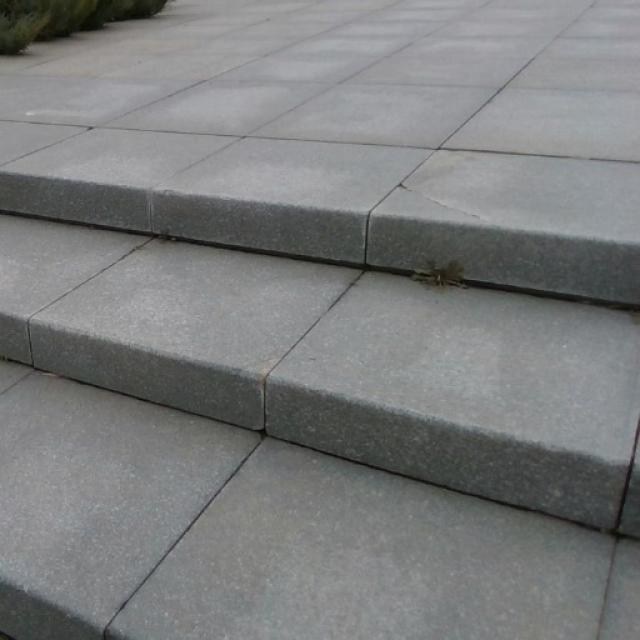Stairs: (0, 143, 639, 640)
